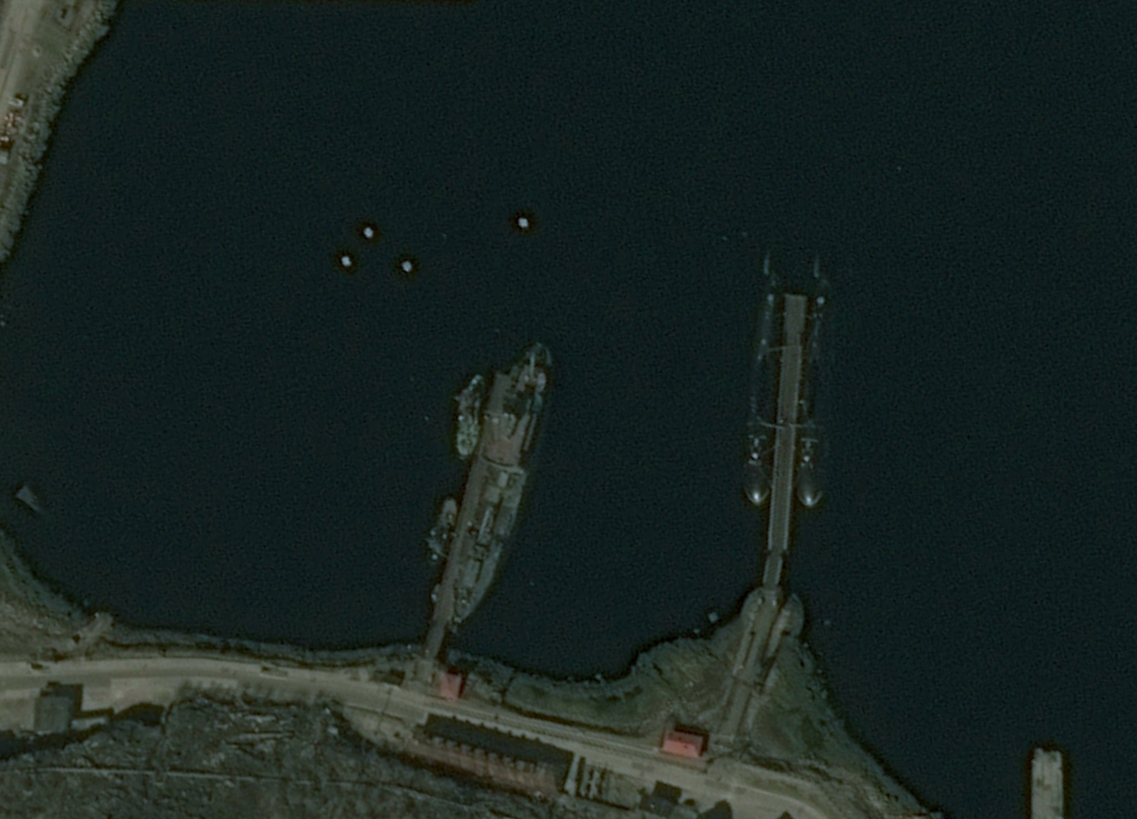merchant ship: (446, 339, 553, 633), (455, 370, 486, 457), (426, 496, 457, 570)
submarine: (741, 249, 783, 507), (797, 250, 835, 508)
